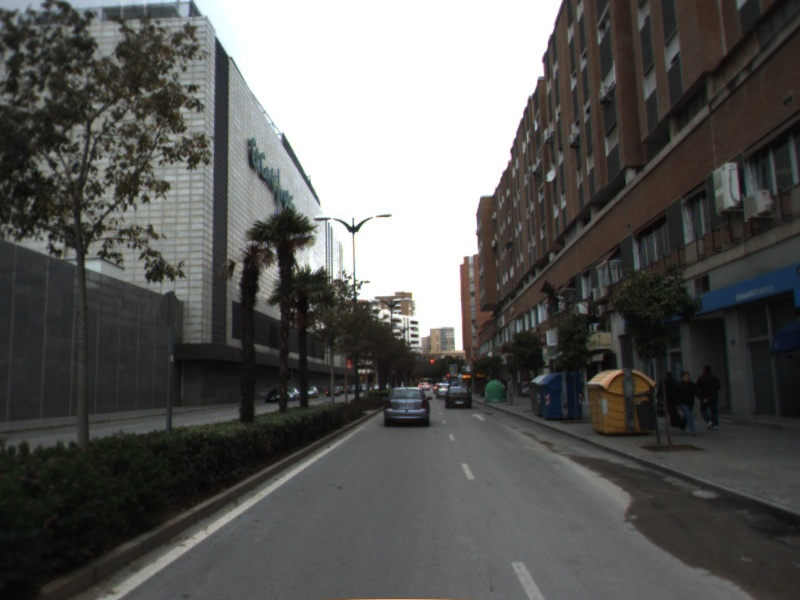STRAIGHT: (470, 412, 487, 423)
